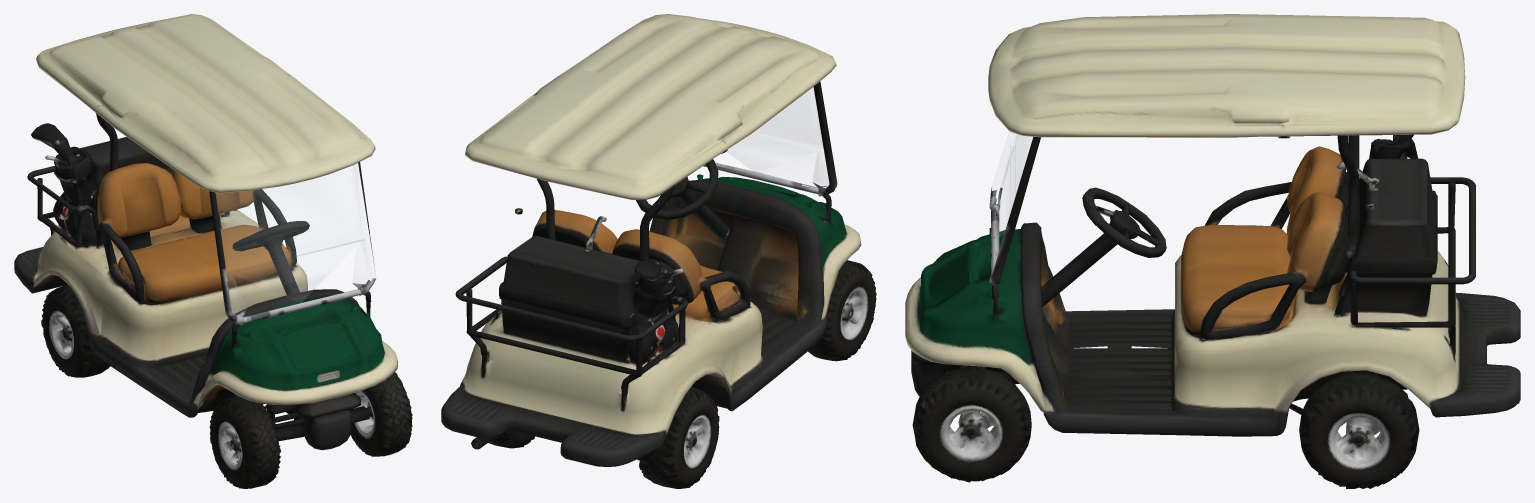
Rendered from cart-mobile.glb.
3 views of the same model, side by side, from view 1: azimuth 30°, elevation 25°; view 2: azimuth 150°, elevation 25°; view 3: azimuth 270°, elevation 25° (orthographic). The views are drawn at different scales.
Parts seen in each view (by area): view 1: tripo_node_4f8982f6-b0ca-4154-b0b8-ca4002edcc6c; view 2: tripo_node_4f8982f6-b0ca-4154-b0b8-ca4002edcc6c; view 3: tripo_node_4f8982f6-b0ca-4154-b0b8-ca4002edcc6c.
Part boxes in pixels (bbox=[...]): tripo_node_4f8982f6-b0ca-4154-b0b8-ca4002edcc6c: bbox=[14, 14, 412, 488]; tripo_node_4f8982f6-b0ca-4154-b0b8-ca4002edcc6c: bbox=[441, 14, 876, 488]; tripo_node_4f8982f6-b0ca-4154-b0b8-ca4002edcc6c: bbox=[905, 14, 1520, 488].
Size of the model in its own units: 0.4367 by 0.6723 by 0.9788.
Materials: 2 (1 with a texture image).
